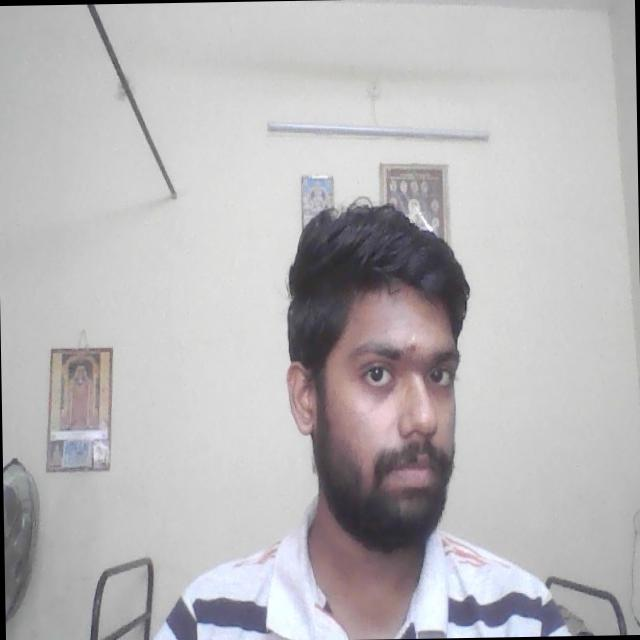Focused: (288, 286, 474, 514)
